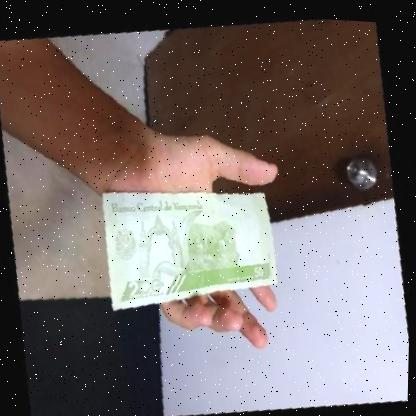fifty-back-vef: (89, 156, 285, 316)
